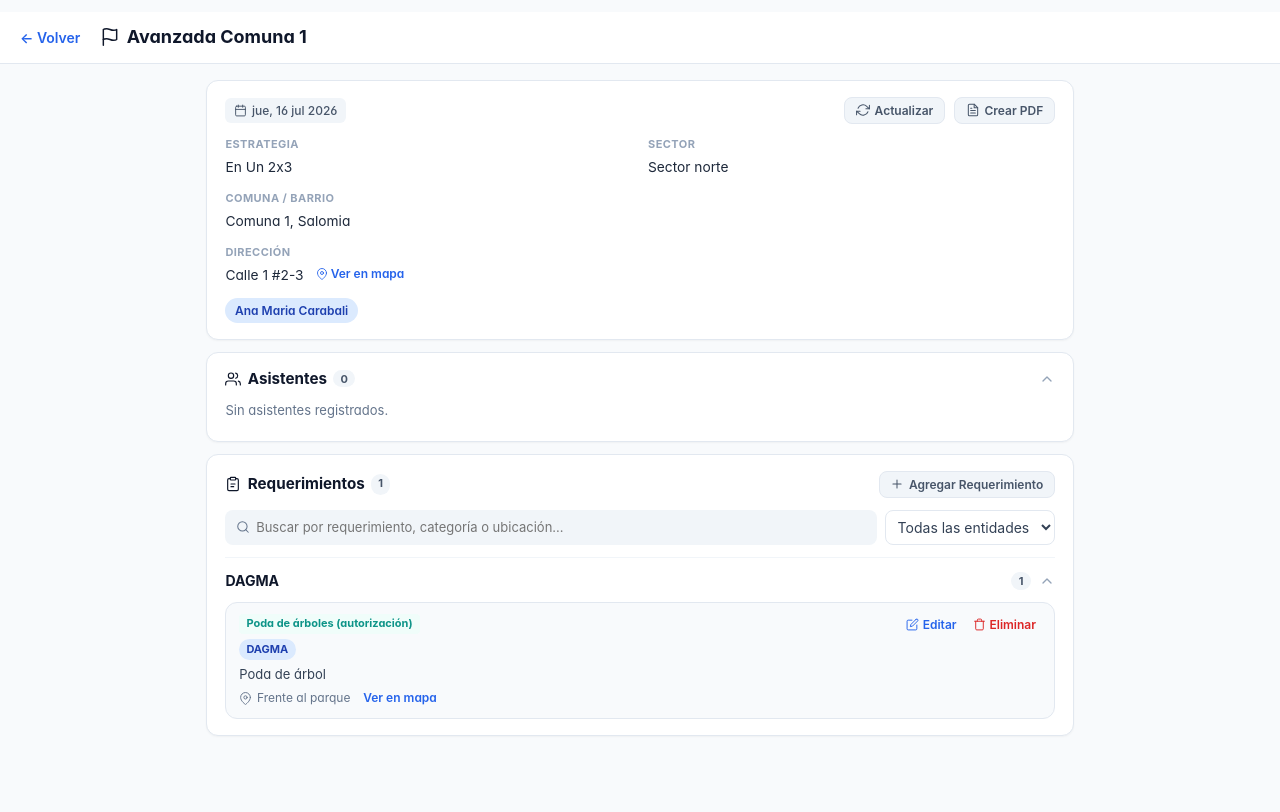
Test: DetalleAvanzada › requerimientos › shows a 'no match' hint distinct from the zero-requerimientos hint when a filter matches nothing
Type "texto-inexistente" into the field with placeholder "Buscar por requerimiento, categoría o ubicación…" at (561, 527), box [256, 519, 866, 535]
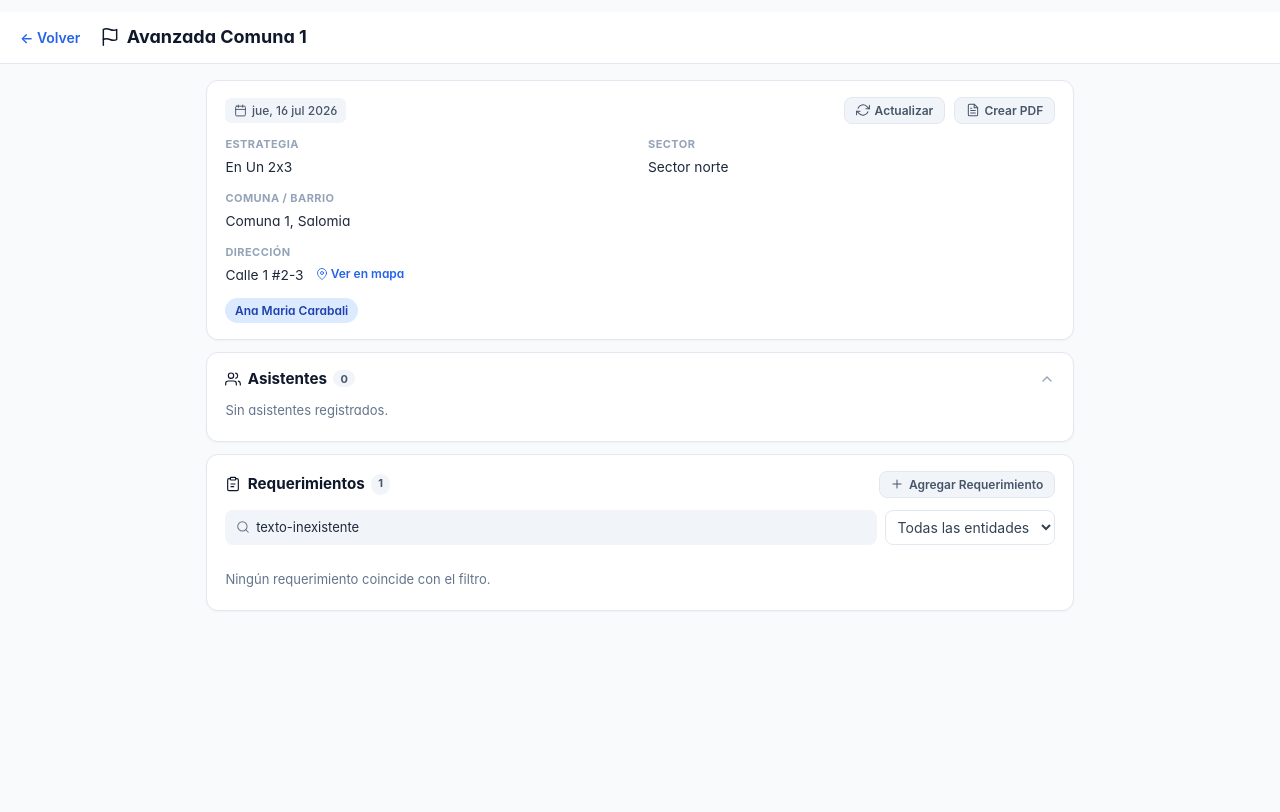
Now the text "Ningún requerimiento coincide con el filtro." is shown, box [225, 571, 491, 587]
